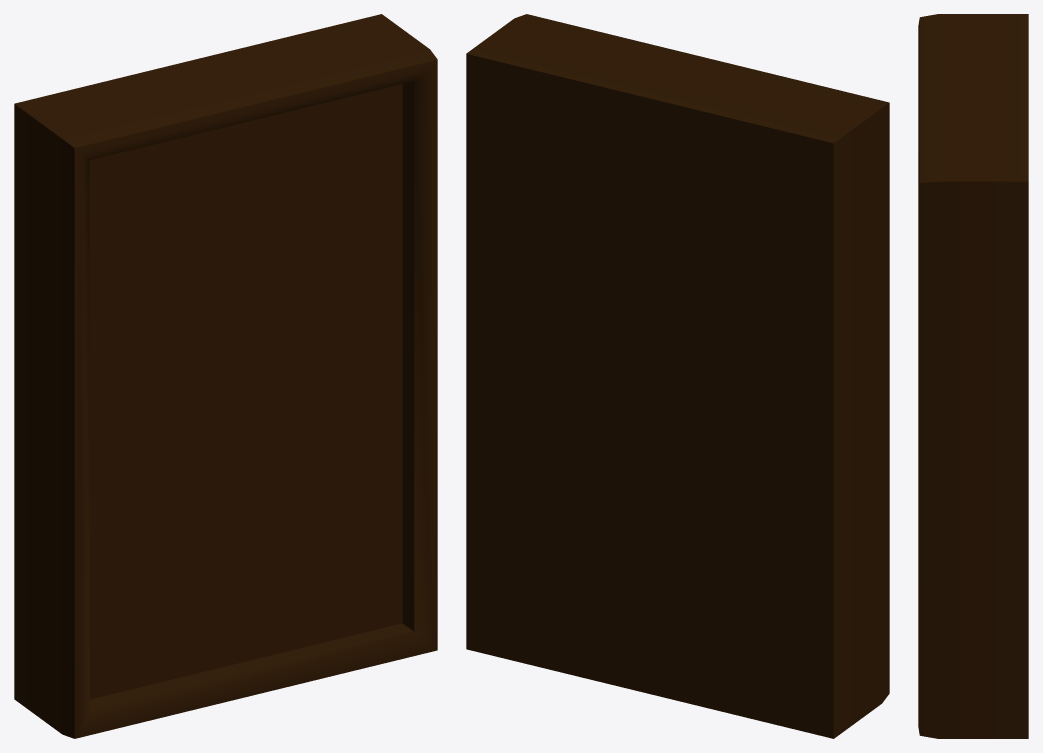
Rendered from RE_RBathMedCab.FBX.
The picture shows the model from 3 angles, left to right: view 1: azimuth 30°, elevation 25°; view 2: azimuth 150°, elevation 25°; view 3: azimuth 270°, elevation 25°; orthographic projection. The views are drawn at different scales.
Parts seen in each view (by area): view 1: RE_RBathMedCab; view 2: RE_RBathMedCab; view 3: RE_RBathMedCab.
Boxes of the visible parts, x1=… form: RE_RBathMedCab: x1=14, y1=14, x2=437, y2=738; RE_RBathMedCab: x1=466, y1=14, x2=889, y2=738; RE_RBathMedCab: x1=918, y1=14, x2=1028, y2=738.
Bounding box in the file's own units: 42.92 × 66.45 × 11.94.
